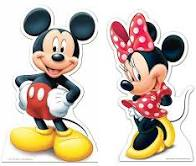mickey: (10, 6, 95, 164)
